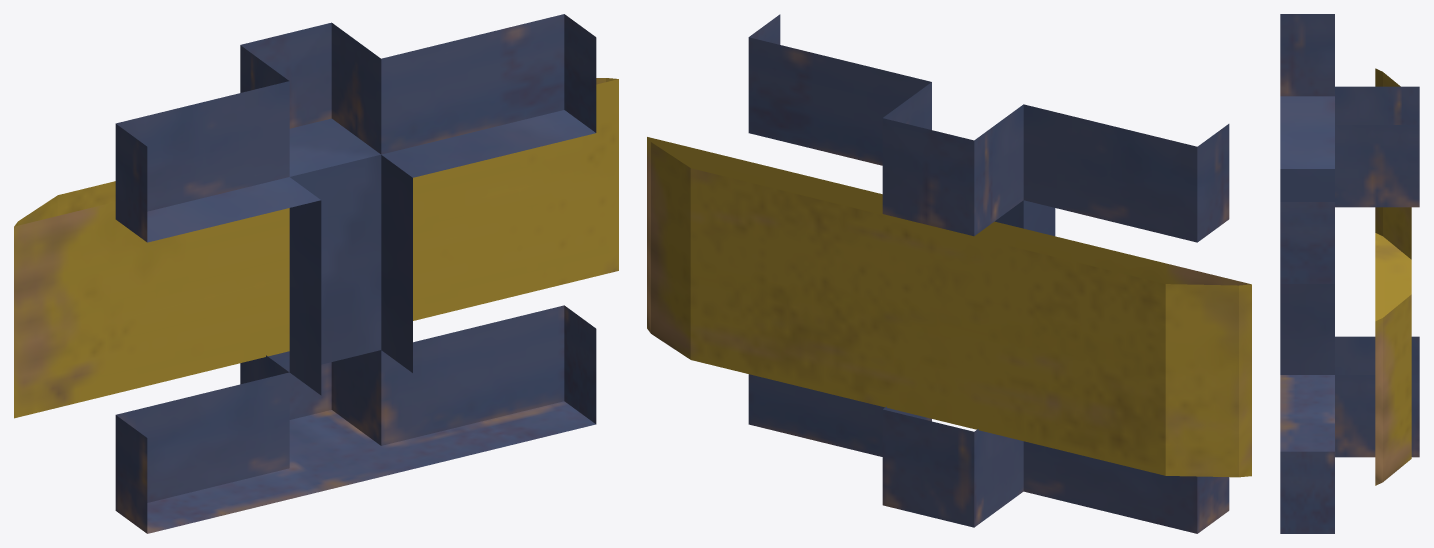
Rendered from M_Balance.fbx.
The picture shows the model from 3 angles, left to right: view 1: azimuth 30°, elevation 25°; view 2: azimuth 150°, elevation 25°; view 3: azimuth 270°, elevation 25°; orthographic projection. The views are drawn at different scales.
Visible parts, largest first — view 1: SM_Balance_Base, M_Balance_planche; view 2: M_Balance_planche, SM_Balance_Base; view 3: SM_Balance_Base, M_Balance_planche.
Boxes of the visible parts, x1=… form: SM_Balance_Base: x1=115, y1=14, x2=596, y2=533; M_Balance_planche: x1=14, y1=78, x2=618, y2=418; M_Balance_planche: x1=647, y1=137, x2=1251, y2=477; SM_Balance_Base: x1=748, y1=14, x2=1229, y2=533; SM_Balance_Base: x1=1280, y1=14, x2=1419, y2=533; M_Balance_planche: x1=1375, y1=68, x2=1411, y2=485.
Bounding box in the file's own units: 66 × 41.13 × 15.33.
